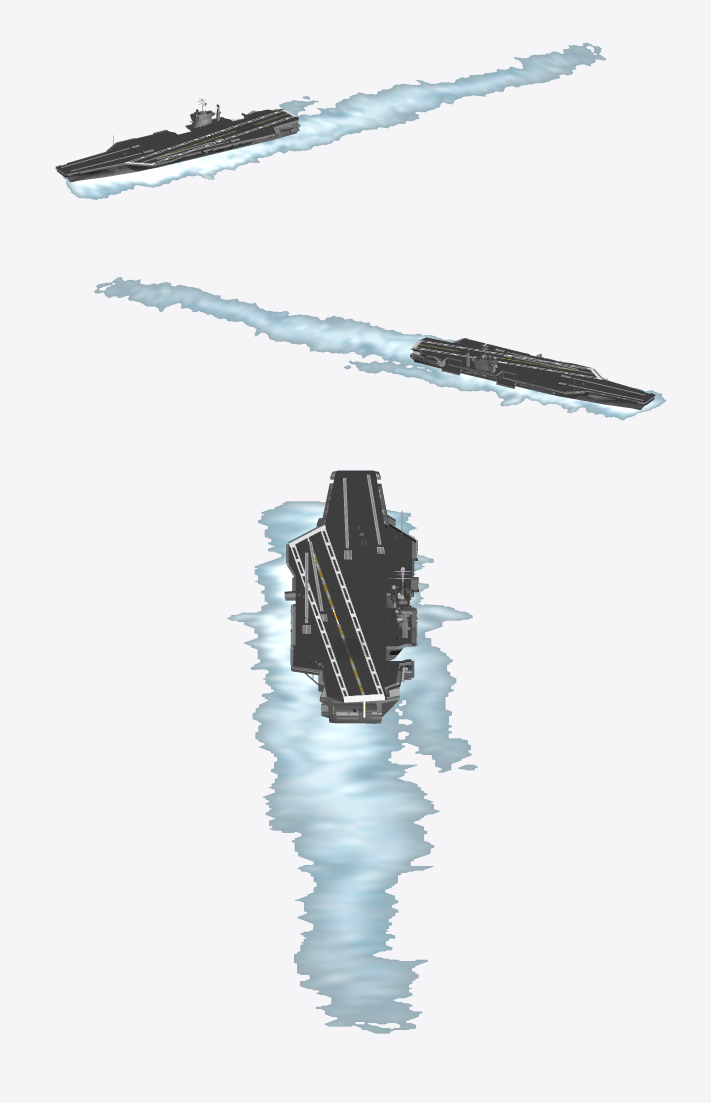
The model's file is nimitz.glb.
The picture shows the model from 3 angles, top to bottom: view 1: azimuth 30°, elevation 25°; view 2: azimuth 150°, elevation 25°; view 3: azimuth 270°, elevation 25°; orthographic projection. The views are drawn at different scales.
Parts seen in each view (by area): view 1: Wake, Deck-5, Deck-4, Hull-Port, Sponson-Port, Deck-Underside; view 2: Wake, Deck-5, Deck-4, Hull_Stbd, Deck-Underside; view 3: Wake, Deck-5, Deck-4.
Part boxes in pixels (x1,y1,x2,y2): Wake: (63, 42, 605, 199); Deck-5: (56, 109, 298, 174); Deck-4: (124, 110, 294, 164); Hull-Port: (61, 121, 297, 182); Sponson-Port: (126, 141, 251, 171); Deck-Underside: (55, 113, 298, 175); Wake: (94, 277, 665, 420); Deck-5: (414, 337, 654, 402); Deck-4: (414, 340, 602, 379); Hull_Stbd: (414, 359, 650, 409); Deck-Underside: (410, 349, 654, 403); Wake: (227, 501, 477, 1033); Deck-5: (288, 471, 411, 696); Deck-4: (289, 524, 384, 696).
Bounding box in the file's own units: 872 × 58.14 × 169.
Materials: 39 (37 with a texture image).
